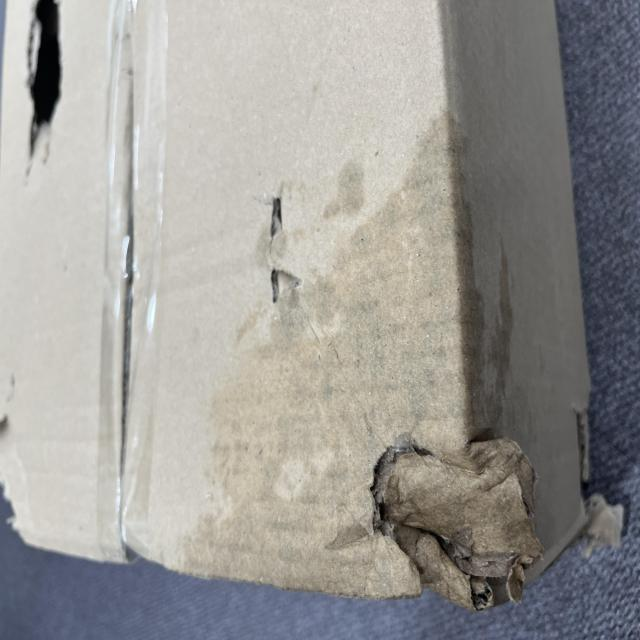wet: (57, 260, 376, 640)
